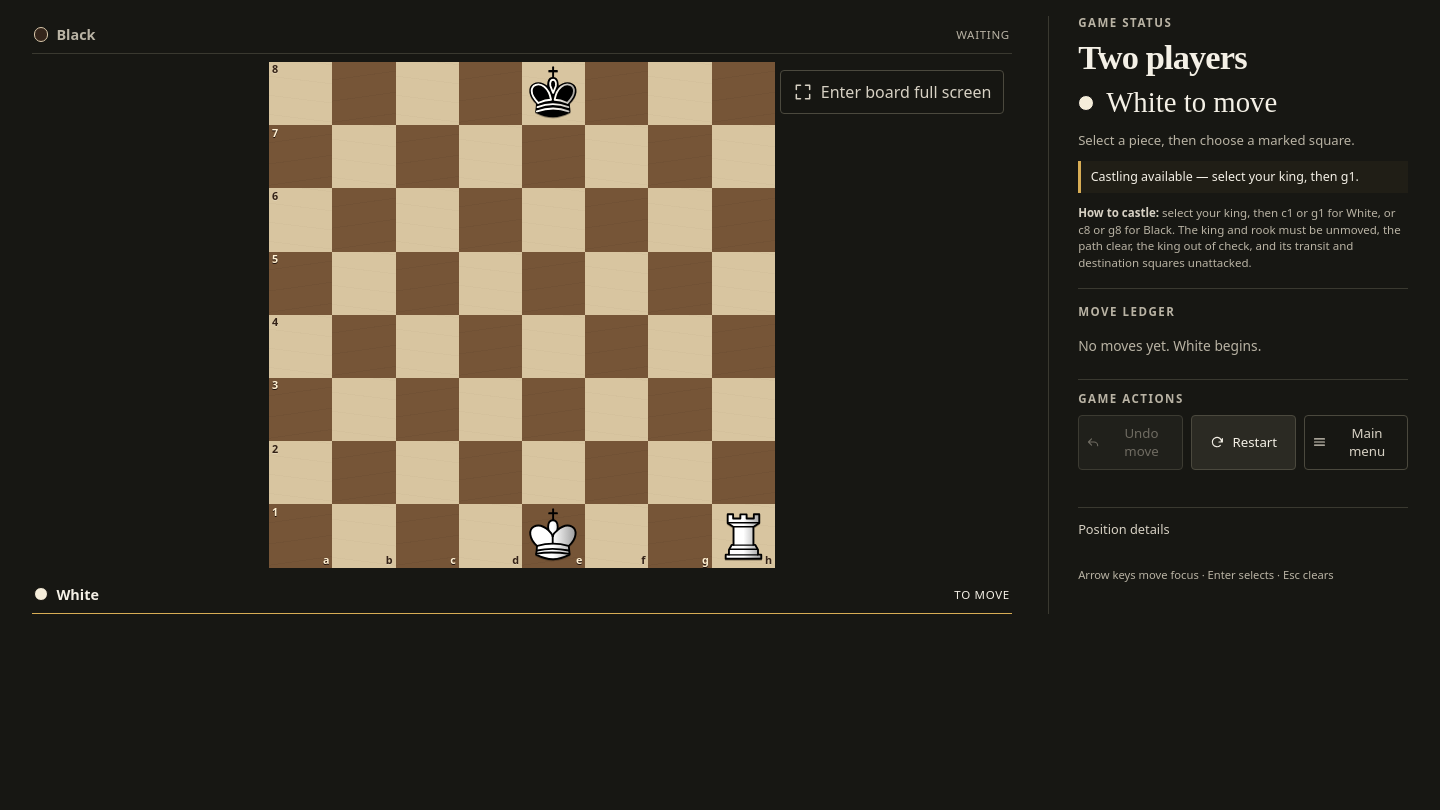
Test: two-player game screen › casts White kingside by click and moves the rook
The image size is (1440, 810).
Check: the element with class "game__castle-help" shows "king and rook must be unmoved", box top-left (1078, 205), bottom-right (1401, 270)
What coordinates should you click on to do the following:
click the button "e"
I would click on:
 (554, 536)
Its box is top-left (522, 504), bottom-right (585, 568).
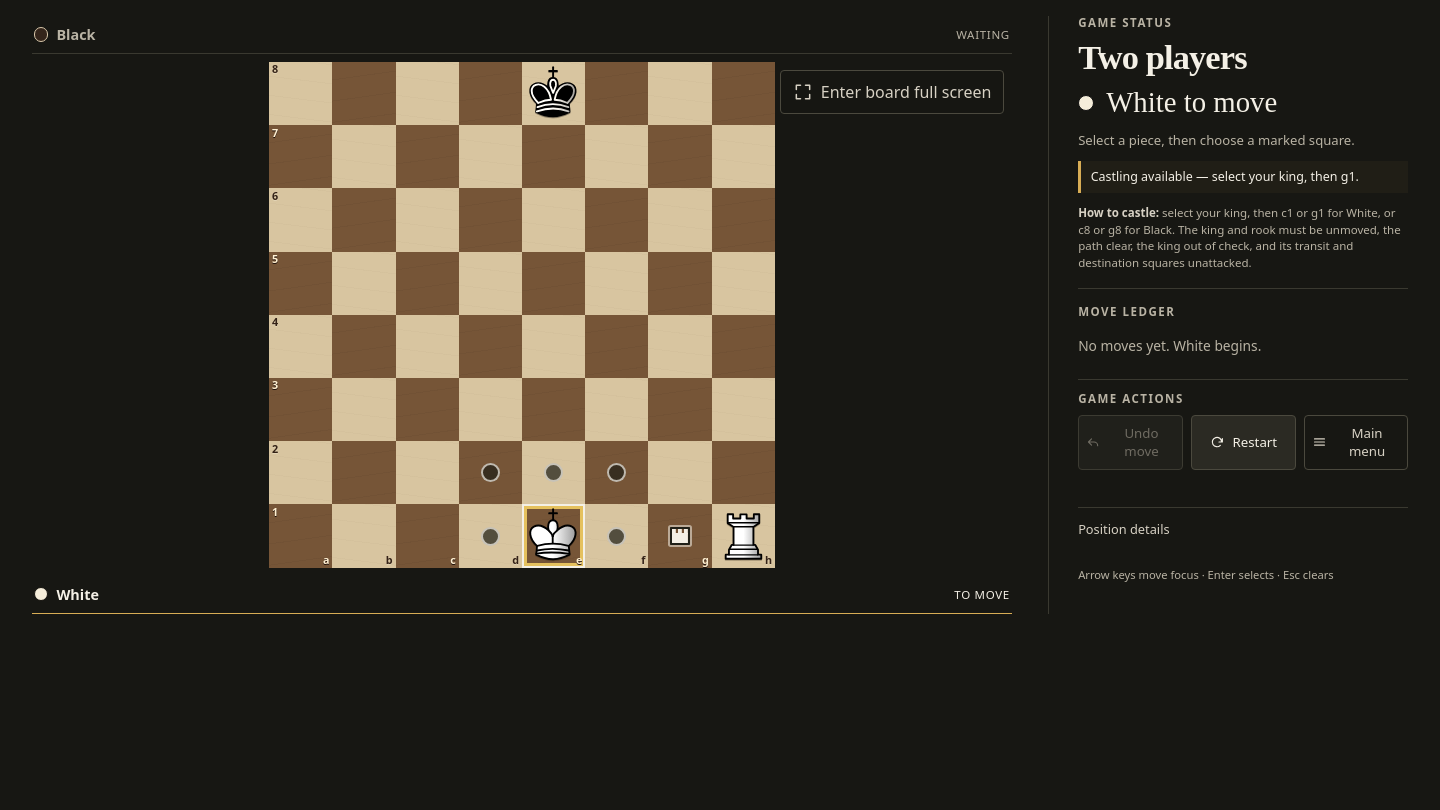
What coordinates should you click on to do the following:
click the button "g"
I would click on:
 (680, 536)
Its box is top-left (648, 504), bottom-right (712, 568).
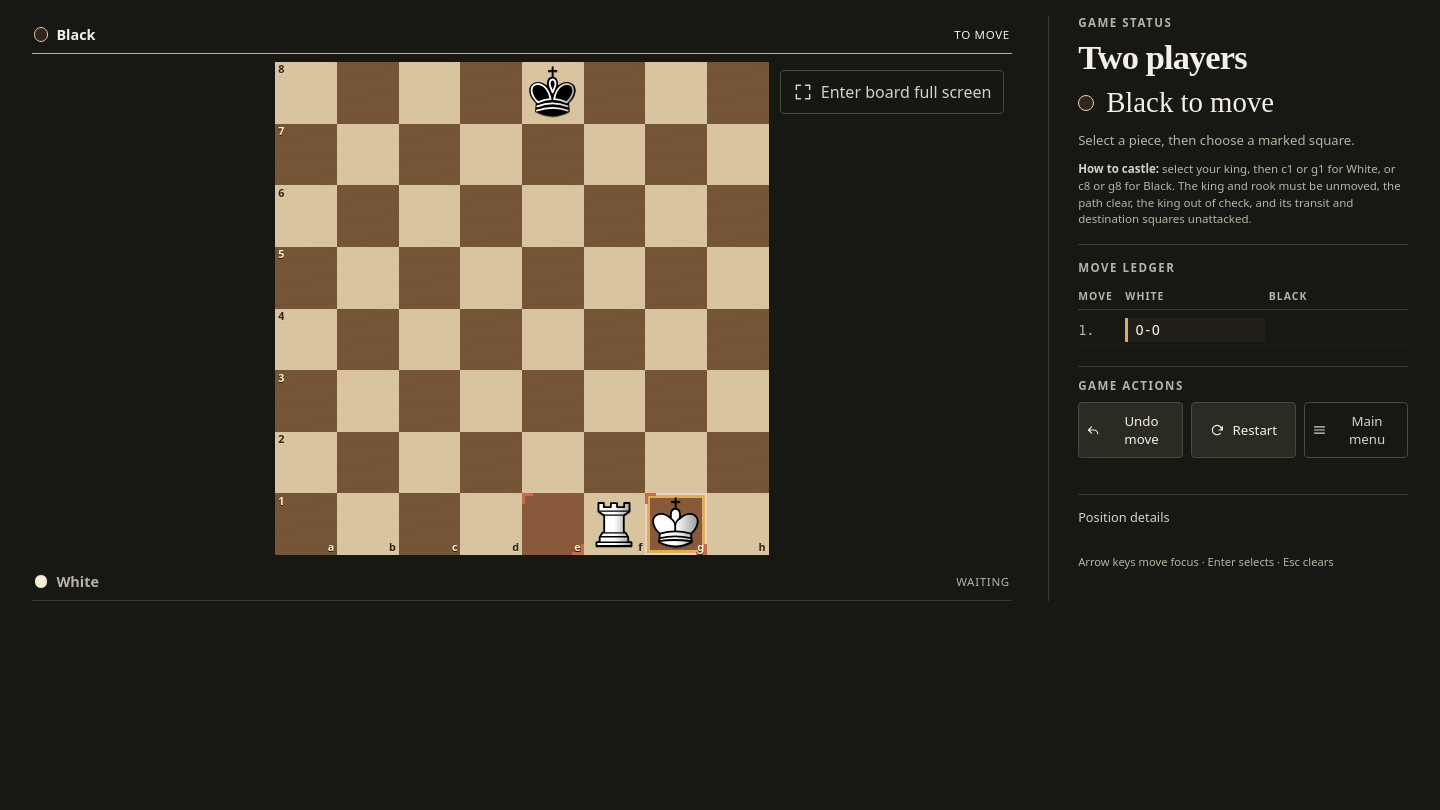
Check: the text "O-O" is shown, box top-left (1125, 318), bottom-right (1265, 342)
Check: the text with class "game__castle-availability" is gone
